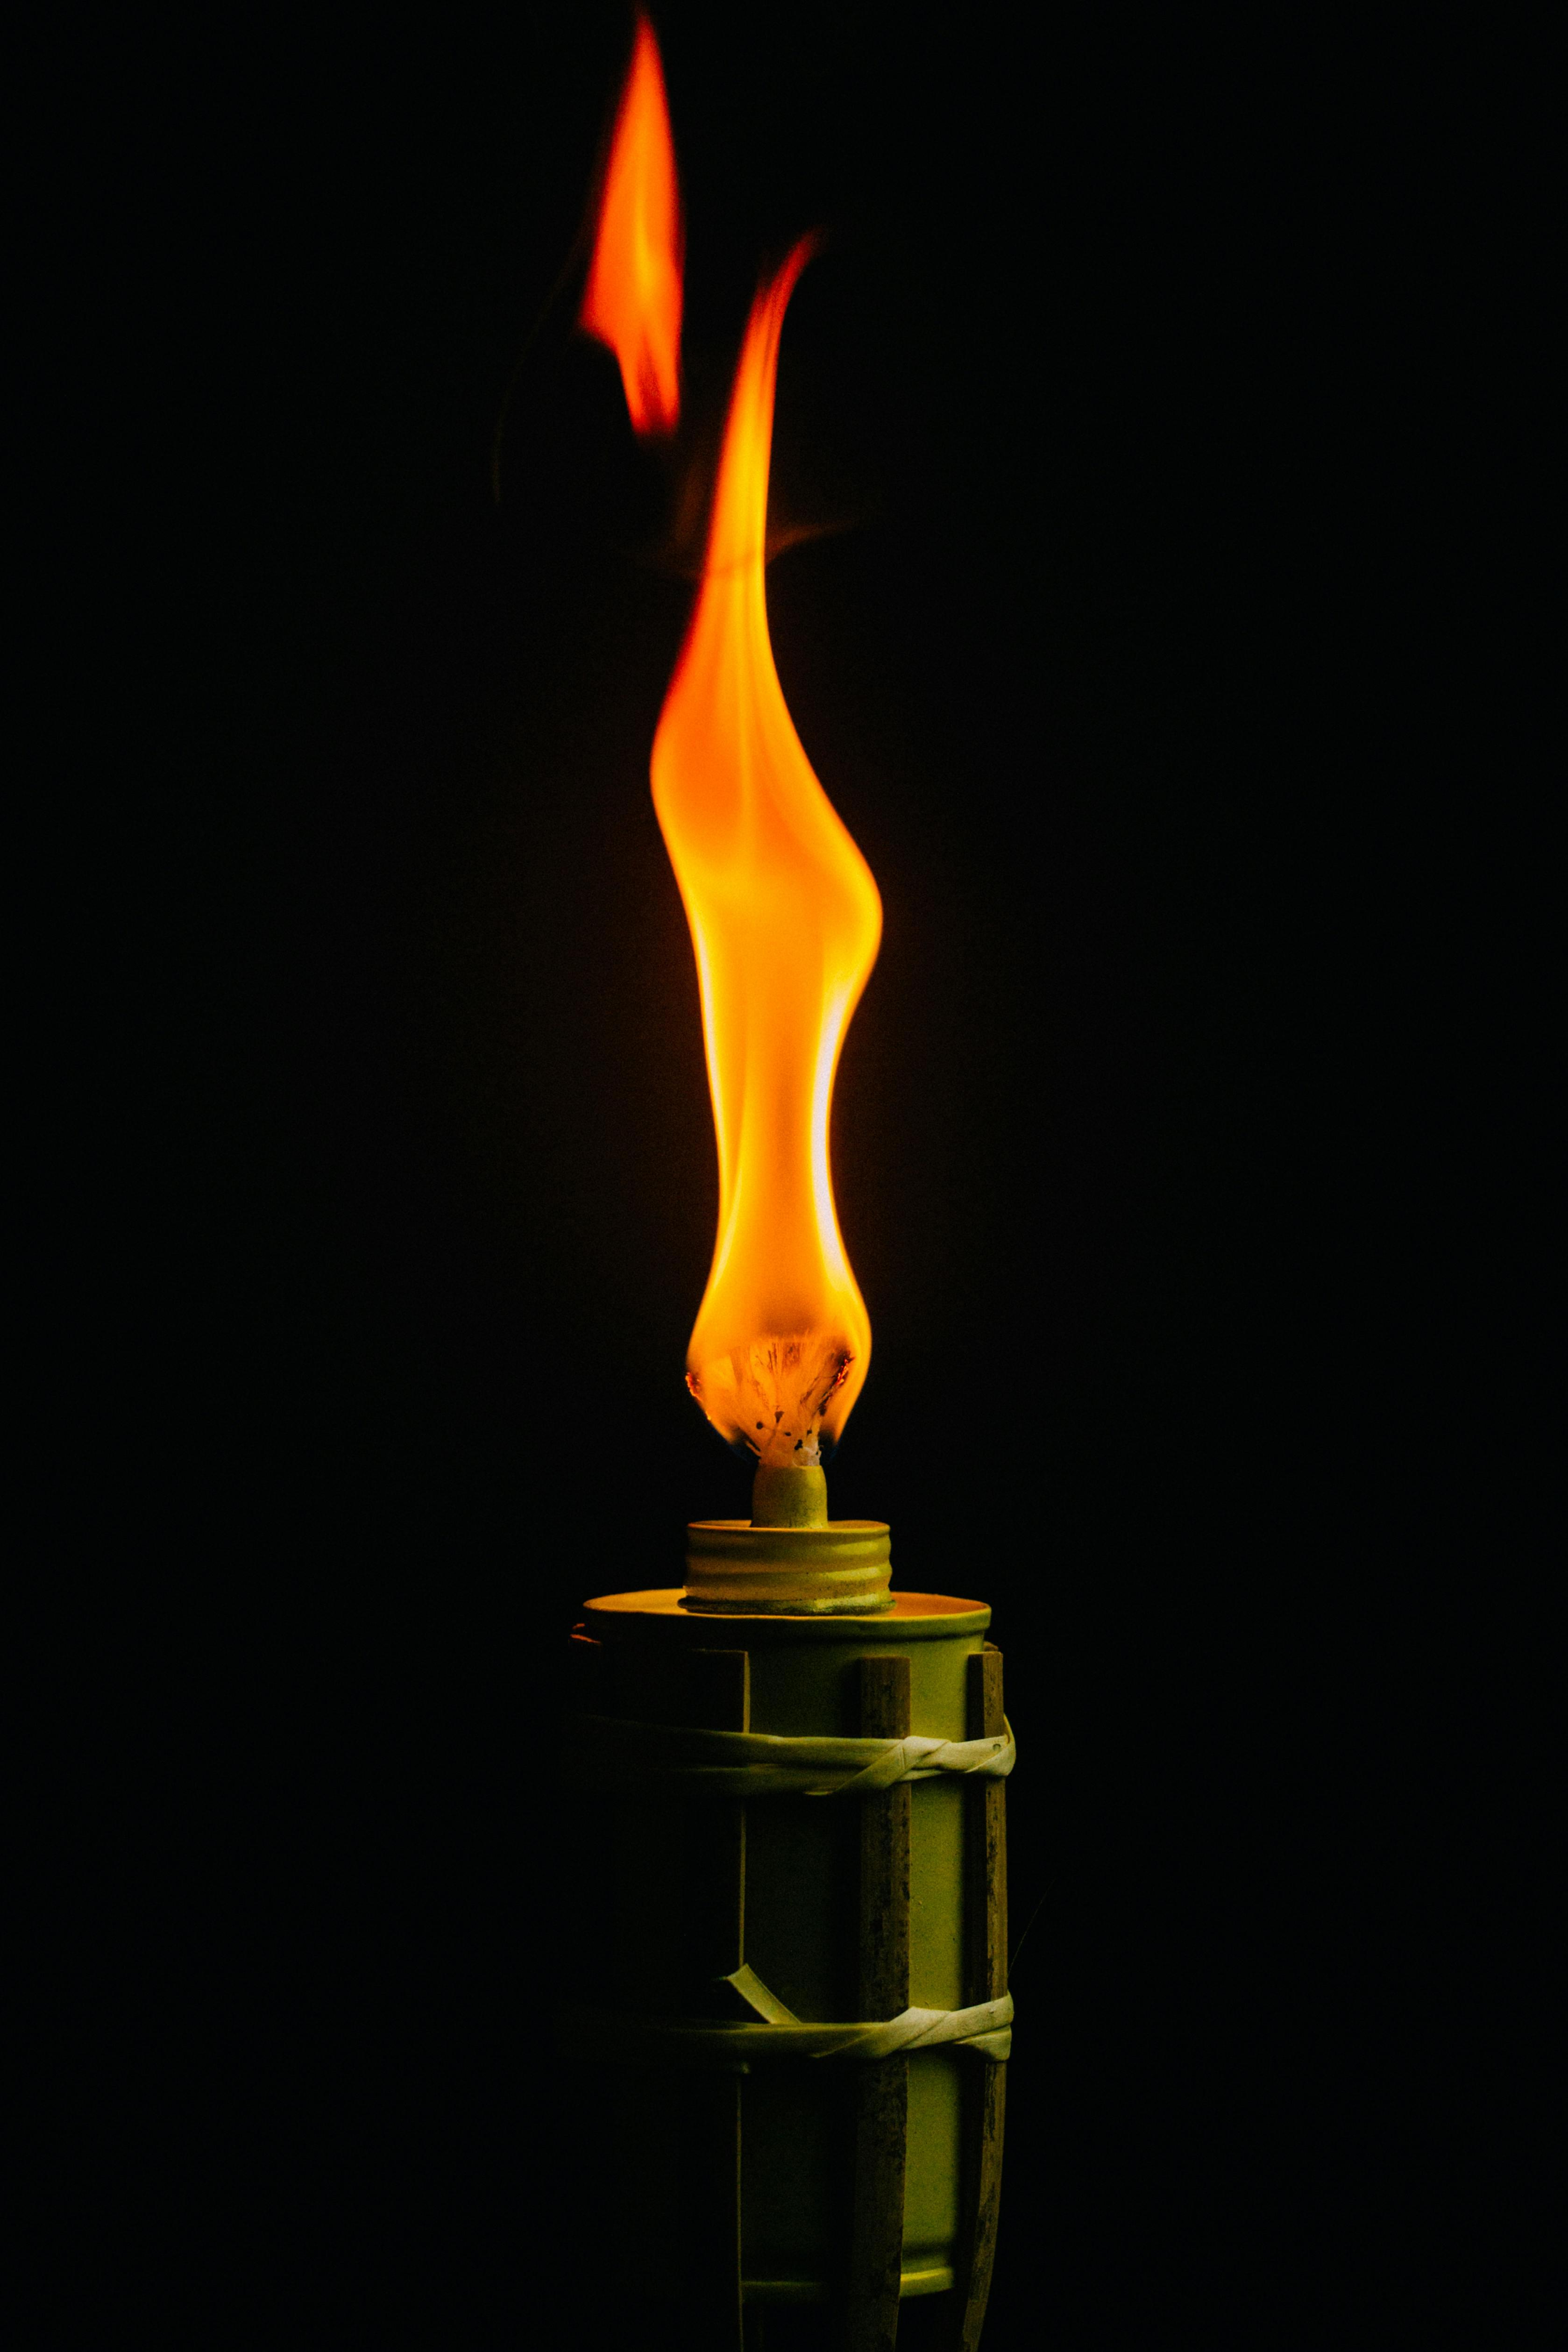Fire: (637, 220, 1008, 1522), (534, 0, 686, 420)
